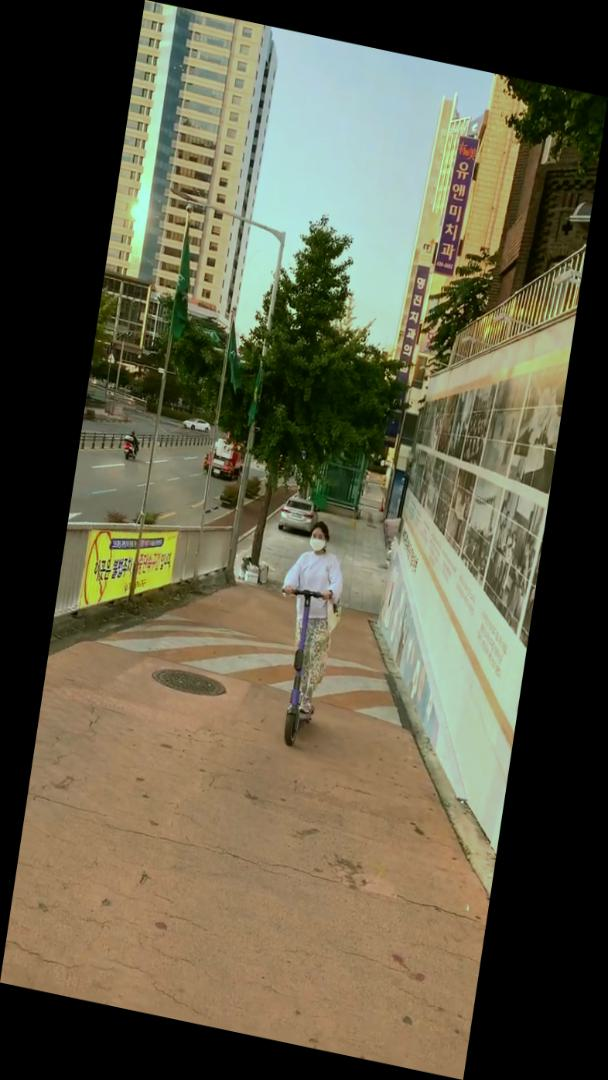nonhelmet: (259, 514, 357, 758)
